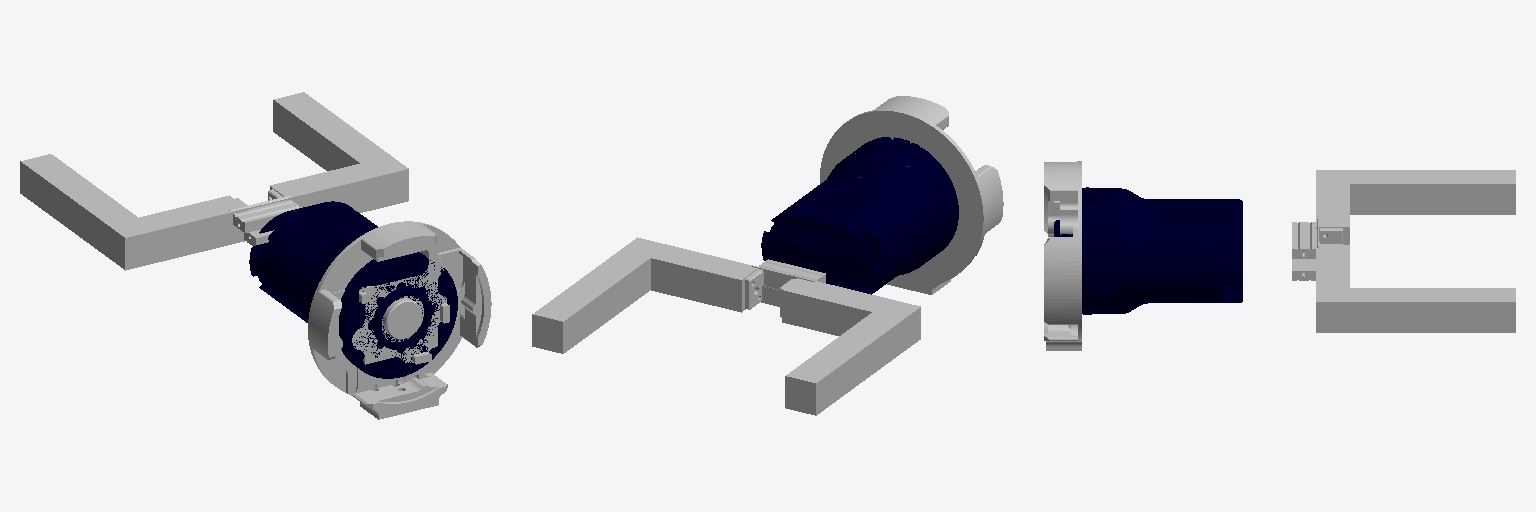
robot.urdf — steripack_robot:
<?xml version="1.0" ?>
<!-- =================================================================================== -->
<!-- |    This document was autogenerated by xacro from [local-path]/mojer/catkin_ws/src/acroba_ros/acroba_resources/urdf/steripack_robot.xacro | -->
<!-- |    EDITING THIS FILE BY HAND IS NOT RECOMMENDED                                 | -->
<!-- =================================================================================== -->
<robot name="steripack_robot">
  <link name="base_link">
    <visual>
      <geometry>
        <mesh filename="package://acroba_resources/meshes/ur10/visual/base.dae"/>
      </geometry>
      <material name="LightGrey">
        <color rgba="0.7 0.7 0.7 1.0"/>
      </material>
    </visual>
    <collision>
      <geometry>
        <mesh filename="package://acroba_resources/meshes/ur10/collision/base.stl"/>
      </geometry>
    </collision>
    <inertial>
      <mass value="4.0"/>
      <origin rpy="0 0 0" xyz="0.0 0.0 0.0"/>
      <inertia ixx="0.0061063308908" ixy="0.0" ixz="0.0" iyy="0.0061063308908" iyz="0.0" izz="0.01125"/>
    </inertial>
  </link>
  <joint name="shoulder_pan_joint" type="revolute">
    <parent link="base_link"/>
    <child link="shoulder_link"/>
    <origin rpy="0.0 0.0 0.0" xyz="0.0 0.0 0.1273"/>
    <axis xyz="0 0 1"/>
    <limit effort="330.0" lower="-6.283185307179586" upper="6.283185307179586" velocity="2.16"/>
    <dynamics damping="0.0" friction="0.0"/>
  </joint>
  <link name="shoulder_link">
    <visual>
      <geometry>
        <mesh filename="package://acroba_resources/meshes/ur10/visual/shoulder.dae"/>
      </geometry>
      <material name="LightGrey">
        <color rgba="0.7 0.7 0.7 1.0"/>
      </material>
    </visual>
    <collision>
      <geometry>
        <mesh filename="package://acroba_resources/meshes/ur10/collision/shoulder.stl"/>
      </geometry>
    </collision>
    <inertial>
      <mass value="7.778"/>
      <origin rpy="0 0 0" xyz="0.0 0.0 0.0"/>
      <inertia ixx="0.03147431257693659" ixy="0.0" ixz="0.0" iyy="0.03147431257693659" iyz="0.0" izz="0.021875624999999996"/>
    </inertial>
  </link>
  <joint name="shoulder_lift_joint" type="revolute">
    <parent link="shoulder_link"/>
    <child link="upper_arm_link"/>
    <origin rpy="0.0 1.5707963267948966 0.0" xyz="0.0 0.220941 0.0"/>
    <axis xyz="0 1 0"/>
    <limit effort="330.0" lower="-6.283185307179586" upper="6.283185307179586" velocity="2.16"/>
    <dynamics damping="0.0" friction="0.0"/>
  </joint>
  <link name="upper_arm_link">
    <visual>
      <geometry>
        <mesh filename="package://acroba_resources/meshes/ur10/visual/upperarm.dae"/>
      </geometry>
      <material name="LightGrey">
        <color rgba="0.7 0.7 0.7 1.0"/>
      </material>
    </visual>
    <collision>
      <geometry>
        <mesh filename="package://acroba_resources/meshes/ur10/collision/upperarm.stl"/>
      </geometry>
    </collision>
    <inertial>
      <mass value="12.93"/>
      <origin rpy="0 0 0" xyz="0.0 -0.045 0.306"/>
      <inertia ixx="0.42175380379841093" ixy="0.0" ixz="0.0" iyy="0.42175380379841093" iyz="0.0" izz="0.03636562499999999"/>
    </inertial>
  </link>
  <joint name="elbow_joint" type="revolute">
    <parent link="upper_arm_link"/>
    <child link="forearm_link"/>
    <origin rpy="0.0 0.0 0.0" xyz="0.0 -0.1719 0.612"/>
    <axis xyz="0 1 0"/>
    <limit effort="150.0" lower="-3.141592653589793" upper="3.141592653589793" velocity="3.15"/>
    <dynamics damping="0.0" friction="0.0"/>
  </joint>
  <link name="forearm_link">
    <visual>
      <geometry>
        <mesh filename="package://acroba_resources/meshes/ur10/visual/forearm.dae"/>
      </geometry>
      <material name="LightGrey">
        <color rgba="0.7 0.7 0.7 1.0"/>
      </material>
    </visual>
    <collision>
      <geometry>
        <mesh filename="package://acroba_resources/meshes/ur10/collision/forearm.stl"/>
      </geometry>
    </collision>
    <inertial>
      <mass value="3.87"/>
      <origin rpy="0 0 0" xyz="0.0 0.0 0.28615"/>
      <inertia ixx="0.11106969409710458" ixy="0.0" ixz="0.0" iyy="0.11106969409710458" iyz="0.0" izz="0.010884375"/>
    </inertial>
  </link>
  <joint name="wrist_1_joint" type="revolute">
    <parent link="forearm_link"/>
    <child link="wrist_1_link"/>
    <origin rpy="0.0 1.5707963267948966 0.0" xyz="0.0 0.0 0.5723"/>
    <axis xyz="0 1 0"/>
    <limit effort="54.0" lower="-6.283185307179586" upper="6.283185307179586" velocity="3.2"/>
    <dynamics damping="0.0" friction="0.0"/>
  </joint>
  <link name="wrist_1_link">
    <visual>
      <geometry>
        <mesh filename="package://acroba_resources/meshes/ur10/visual/wrist1.dae"/>
      </geometry>
      <material name="LightGrey">
        <color rgba="0.7 0.7 0.7 1.0"/>
      </material>
    </visual>
    <collision>
      <geometry>
        <mesh filename="package://acroba_resources/meshes/ur10/collision/wrist1.stl"/>
      </geometry>
    </collision>
    <inertial>
      <mass value="1.96"/>
      <origin rpy="0 0 0" xyz="0.0 0.1149 0.0"/>
      <inertia ixx="0.005108247956699999" ixy="0.0" ixz="0.0" iyy="0.005108247956699999" iyz="0.0" izz="0.005512499999999999"/>
    </inertial>
  </link>
  <joint name="wrist_2_joint" type="revolute">
    <parent link="wrist_1_link"/>
    <child link="wrist_2_link"/>
    <origin rpy="0.0 0.0 0.0" xyz="0.0 0.1149 0.0"/>
    <axis xyz="0 0 1"/>
    <limit effort="54.0" lower="-6.283185307179586" upper="6.283185307179586" velocity="3.2"/>
    <dynamics damping="0.0" friction="0.0"/>
  </joint>
  <link name="wrist_2_link">
    <visual>
      <geometry>
        <mesh filename="package://acroba_resources/meshes/ur10/visual/wrist2.dae"/>
      </geometry>
      <material name="LightGrey">
        <color rgba="0.7 0.7 0.7 1.0"/>
      </material>
    </visual>
    <collision>
      <geometry>
        <mesh filename="package://acroba_resources/meshes/ur10/collision/wrist2.stl"/>
      </geometry>
    </collision>
    <inertial>
      <mass value="1.96"/>
      <origin rpy="0 0 0" xyz="0.0 0.0 0.1157"/>
      <inertia ixx="0.005108247956699999" ixy="0.0" ixz="0.0" iyy="0.005108247956699999" iyz="0.0" izz="0.005512499999999999"/>
    </inertial>
  </link>
  <joint name="wrist_3_joint" type="revolute">
    <parent link="wrist_2_link"/>
    <child link="wrist_3_link"/>
    <origin rpy="0.0 0.0 0.0" xyz="0.0 0.0 0.1157"/>
    <axis xyz="0 1 0"/>
    <limit effort="54.0" lower="-6.283185307179586" upper="6.283185307179586" velocity="3.2"/>
    <dynamics damping="0.0" friction="0.0"/>
  </joint>
  <link name="wrist_3_link">
    <visual>
      <geometry>
        <mesh filename="package://acroba_resources/meshes/ur10/visual/wrist3.dae"/>
      </geometry>
      <material name="LightGrey">
        <color rgba="0.7 0.7 0.7 1.0"/>
      </material>
    </visual>
    <collision>
      <geometry>
        <mesh filename="package://acroba_resources/meshes/ur10/collision/wrist3.stl"/>
      </geometry>
    </collision>
    <inertial>
      <mass value="0.202"/>
      <origin rpy="1.5707963267948966 0 0" xyz="0.0 0.07695 0.0"/>
      <inertia ixx="0.00011792166116465" ixy="0.0" ixz="0.0" iyy="0.00011792166116465" iyz="0.0" izz="0.00020452500000000002"/>
    </inertial>
  </link>
  <joint name="ee_fixed_joint" type="fixed">
    <parent link="wrist_3_link"/>
    <child link="ee_link"/>
    <origin rpy="0.0 0.0 1.5707963267948966" xyz="0.0 0.0922 0.0"/>
  </joint>
  <link name="ee_link">
    <collision>
      <geometry>
        <box size="0.01 0.01 0.01"/>
      </geometry>
      <origin rpy="0 0 0" xyz="-0.01 0 0"/>
    </collision>
  </link>
  <transmission name="shoulder_pan_trans">
    <type>transmission_interface/SimpleTransmission</type>
    <joint name="shoulder_pan_joint">
      <hardwareInterface>hardware_interface/PositionJointInterface</hardwareInterface>
    </joint>
    <actuator name="shoulder_pan_motor">
      <mechanicalReduction>1</mechanicalReduction>
    </actuator>
  </transmission>
  <transmission name="shoulder_lift_trans">
    <type>transmission_interface/SimpleTransmission</type>
    <joint name="shoulder_lift_joint">
      <hardwareInterface>hardware_interface/PositionJointInterface</hardwareInterface>
    </joint>
    <actuator name="shoulder_lift_motor">
      <mechanicalReduction>1</mechanicalReduction>
    </actuator>
  </transmission>
  <transmission name="elbow_trans">
    <type>transmission_interface/SimpleTransmission</type>
    <joint name="elbow_joint">
      <hardwareInterface>hardware_interface/PositionJointInterface</hardwareInterface>
    </joint>
    <actuator name="elbow_motor">
      <mechanicalReduction>1</mechanicalReduction>
    </actuator>
  </transmission>
  <transmission name="wrist_1_trans">
    <type>transmission_interface/SimpleTransmission</type>
    <joint name="wrist_1_joint">
      <hardwareInterface>hardware_interface/PositionJointInterface</hardwareInterface>
    </joint>
    <actuator name="wrist_1_motor">
      <mechanicalReduction>1</mechanicalReduction>
    </actuator>
  </transmission>
  <transmission name="wrist_2_trans">
    <type>transmission_interface/SimpleTransmission</type>
    <joint name="wrist_2_joint">
      <hardwareInterface>hardware_interface/PositionJointInterface</hardwareInterface>
    </joint>
    <actuator name="wrist_2_motor">
      <mechanicalReduction>1</mechanicalReduction>
    </actuator>
  </transmission>
  <transmission name="wrist_3_trans">
    <type>transmission_interface/SimpleTransmission</type>
    <joint name="wrist_3_joint">
      <hardwareInterface>hardware_interface/PositionJointInterface</hardwareInterface>
    </joint>
    <actuator name="wrist_3_motor">
      <mechanicalReduction>1</mechanicalReduction>
    </actuator>
  </transmission>
  <gazebo reference="shoulder_link">
    <selfCollide>true</selfCollide>
  </gazebo>
  <gazebo reference="upper_arm_link">
    <selfCollide>true</selfCollide>
  </gazebo>
  <gazebo reference="forearm_link">
    <selfCollide>true</selfCollide>
  </gazebo>
  <gazebo reference="wrist_1_link">
    <selfCollide>true</selfCollide>
  </gazebo>
  <gazebo reference="wrist_3_link">
    <selfCollide>true</selfCollide>
  </gazebo>
  <gazebo reference="wrist_2_link">
    <selfCollide>true</selfCollide>
  </gazebo>
  <gazebo reference="ee_link">
    <selfCollide>true</selfCollide>
  </gazebo>
  <!-- ROS base_link to UR 'Base' Coordinates transform -->
  <link name="base"/>
  <joint name="base_link-base_fixed_joint" type="fixed">
    <!-- NOTE: this rotation is only needed as long as base_link itself is
                 not corrected wrt the real robot (ie: rotated over 180
                 degrees)
      -->
    <origin rpy="0 0 -3.141592653589793" xyz="0 0 0"/>
    <parent link="base_link"/>
    <child link="base"/>
  </joint>
  <!-- Frame coincident with all-zeros TCP on UR controller -->
  <link name="tool0"/>
  <joint name="wrist_3_link-tool0_fixed_joint" type="fixed">
    <origin rpy="-1.5707963267948966 0 0" xyz="0 0.0922 0"/>
    <parent link="wrist_3_link"/>
    <child link="tool0"/>
  </joint>
  <material name="schunk_dark_grey">
    <color rgba="0.3 0.3 0.3 1.0"/>
  </material>
  <material name="schunk_grey">
    <color rgba="0.8 0.8 0.8 1.0"/>
  </material>
  <material name="schunk_blue">
    <color rgba="0. 0. 0.2 1.0"/>
  </material>
  <link name="base_tool"/>
  <link name="tool_adaptor">
    <visual>
      <origin rpy="0 0 0" xyz="0 0 0.0"/>
      <geometry>
        <mesh filename="package://acroba_resources/meshes/schunk_EGP40/base.stl" scale="0.001 0.001 0.001"/>
      </geometry>
      <material name="schunk_grey"/>
    </visual>
    <collision>
      <origin rpy="0 0 0" xyz="0 0 -0.0015"/>
      <geometry>
        <cylinder length="0.019" radius="0.045"/>
      </geometry>
    </collision>
  </link>
  <link name="tool_body">
    <visual>
      <origin rpy="0 0 0" xyz="0 0 0.0"/>
      <geometry>
        <mesh filename="package://acroba_resources/meshes/schunk_EGP40/body.stl" scale="0.001 0.001 0.001"/>
      </geometry>
      <material name="schunk_blue"/>
    </visual>
    <collision>
      <origin rpy="0 0 0" xyz="0 0 0.0"/>
      <geometry>
        <mesh filename="package://acroba_resources/meshes/schunk_EGP40/body_convex.stl" scale="0.001 0.001 0.001"/>
      </geometry>
    </collision>
  </link>
  <link name="left_finger">
    <visual>
      <origin rpy="0 0 0" xyz="0 0 0.0"/>
      <geometry>
        <mesh filename="package://acroba_resources/meshes/schunk_EGP40/finger_1.stl" scale="0.001 0.001 0.001"/>
      </geometry>
      <material name="schunk_grey"/>
    </visual>
    <collision>
      <origin rpy="0 0 0" xyz="-0.011 0 0.1325"/>
      <geometry>
        <box size="0.006 0.017 0.017"/>
      </geometry>
    </collision>
  </link>
  <link name="right_finger">
    <visual>
      <origin rpy="0 0 0" xyz="0 0 0.0"/>
      <geometry>
        <mesh filename="package://acroba_resources/meshes/schunk_EGP40/finger_2.stl" scale="0.001 0.001 0.001"/>
      </geometry>
      <material name="schunk_grey"/>
    </visual>
    <collision>
      <origin rpy="0 0 0" xyz="0.011 0 0.1325"/>
      <geometry>
        <box size="0.006 0.017 0.017"/>
      </geometry>
    </collision>
  </link>
  <joint name="_tool_base_adaptor" type="fixed">
    <origin rpy="0 0 0" xyz="0 0 0.0"/>
    <parent link="base_tool"/>
    <child link="tool_adaptor"/>
  </joint>
  <joint name="_tool_adaptor_body" type="fixed">
    <origin rpy="0 0 0" xyz="0 0 0.0"/>
    <parent link="tool_adaptor"/>
    <child link="tool_body"/>
  </joint>
  <joint name="_left_joint" type="prismatic">
    <origin rpy="0 0 0" xyz="0 0 0.0"/>
    <parent link="tool_body"/>
    <child link="left_finger"/>
    <axis xyz="1 0 0"/>
    <limit effort="215" lower="0" upper="0.006" velocity="10"/>
  </joint>
  <joint name="_right_joint" type="prismatic">
    <origin rpy="0 0 0" xyz="0 0 0.0"/>
    <parent link="tool_body"/>
    <child link="right_finger"/>
    <axis xyz="-1 0 0"/>
    <limit effort="215" lower="0" upper="0.006" velocity="10"/>
  </joint>
  <link name="tool_tip"/>
  <joint name="_end_tool" type="fixed">
    <origin rpy="0 0 0" xyz="0 0 0.136"/>
    <parent link="tool_body"/>
    <child link="tool_tip"/>
  </joint>
  <link name="right_extension">
    <visual>
      <origin rpy="0 0 0" xyz="0.036000000000000004 0 0.136"/>
      <geometry>
        <box size="0.05 0.017 0.017"/>
      </geometry>
      <material name="schunk_grey"/>
    </visual>
    <visual>
      <origin rpy="0 0 0" xyz="0.0695 0 0.1775"/>
      <geometry>
        <box size="0.017 0.017 0.1"/>
      </geometry>
      <material name="schunk_grey"/>
    </visual>
    <collision>
      <origin rpy="0 0 0" xyz="0.036000000000000004 0 0.136"/>
      <geometry>
        <box size="0.05 0.017 0.017"/>
      </geometry>
    </collision>
    <collision>
      <origin rpy="0 0 0" xyz="0.0695 0 0.1775"/>
      <geometry>
        <box size="0.017 0.017 0.1"/>
      </geometry>
    </collision>
  </link>
  <link name="left_extension">
    <visual>
      <origin rpy="0 0 0" xyz="-0.036000000000000004 0 0.136"/>
      <geometry>
        <box size="0.05 0.017 0.017"/>
      </geometry>
      <material name="schunk_grey"/>
    </visual>
    <visual>
      <origin rpy="0 0 0" xyz="-0.0695 0 0.1775"/>
      <geometry>
        <box size="0.017 0.017 0.1"/>
      </geometry>
      <material name="schunk_grey"/>
    </visual>
    <collision>
      <origin rpy="0 0 0" xyz="-0.036000000000000004 0 0.136"/>
      <geometry>
        <box size="0.05 0.017 0.017"/>
      </geometry>
    </collision>
    <collision>
      <origin rpy="0 0 0" xyz="-0.0695 0 0.1775"/>
      <geometry>
        <box size="0.017 0.017 0.1"/>
      </geometry>
    </collision>
  </link>
  <joint name="extension_joint_right" type="fixed">
    <origin rpy="0.0 0.0 0.0" xyz="0.0 0.0 0.0"/>
    <parent link="right_finger"/>
    <child link="right_extension"/>
  </joint>
  <joint name="extension_joint_left" type="fixed">
    <origin rpy="0.0 0.0 0.0" xyz="0.0 0.0 0.0"/>
    <parent link="left_finger"/>
    <child link="left_extension"/>
  </joint>
  <link name="end_tool"/>
  <joint name="joint_tip_end" type="fixed">
    <origin rpy="0.0 0.0 0.0" xyz="0.0 0.0 0.0915"/>
    <parent link="tool_tip"/>
    <child link="end_tool"/>
  </joint>
  <link name="world"/>
  <joint name="world_joint" type="fixed">
    <parent link="world"/>
    <child link="base_link"/>
    <origin rpy="0 0 0" xyz="0 0 0"/>
  </joint>
  <joint name="tool_joint" type="fixed">
    <parent link="tool0"/>
    <child link="base_tool"/>
    <origin rpy="0.0 0.0 0.0" xyz="0.0 0.0 0.0"/>
  </joint>
</robot>

--- What the picture shows (computed from the rendered views, not written in the file) ---
Views: 3 orthographic renders of the robot side by side, from view 1: azimuth 30°, elevation 25°; view 2: azimuth 150°, elevation 25°; view 3: azimuth 270°, elevation 25°.
Robot: steripack_robot — 20 links, 19 joints (6 revolute, 2 prismatic, 11 fixed); root link world; default pose: every joint at zero.
Links seen in each view (by area): view 1: tool_adaptor, tool_body, right_extension, left_extension, left_finger; view 2: tool_body, left_extension, right_extension, tool_adaptor, left_finger; view 3: tool_body, left_extension, right_extension, tool_adaptor, left_finger, right_finger.
Boxes of the visible links, x1,y1,x2,y2 form: tool_adaptor: [308, 221, 491, 419]; tool_body: [249, 201, 457, 378]; right_extension: [20, 154, 246, 270]; left_extension: [270, 92, 408, 212]; left_finger: [229, 189, 301, 232]; tool_body: [761, 137, 958, 294]; left_extension: [532, 237, 757, 353]; right_extension: [782, 277, 920, 415]; tool_adaptor: [820, 96, 1003, 294]; left_finger: [745, 259, 825, 309]; tool_body: [1054, 187, 1242, 314]; left_extension: [1316, 245, 1515, 332]; right_extension: [1316, 170, 1515, 244]; tool_adaptor: [1044, 161, 1081, 350]; left_finger: [1292, 218, 1342, 258]; right_finger: [1292, 228, 1342, 280].
Size in the robot's own frame: 0.156 by 0.2355 by 0.092 metres.
4 mesh visuals loaded from 11 distinct referenced files (4 binary STL); not drawn: 7 (reference not matched to a file when rendering).
